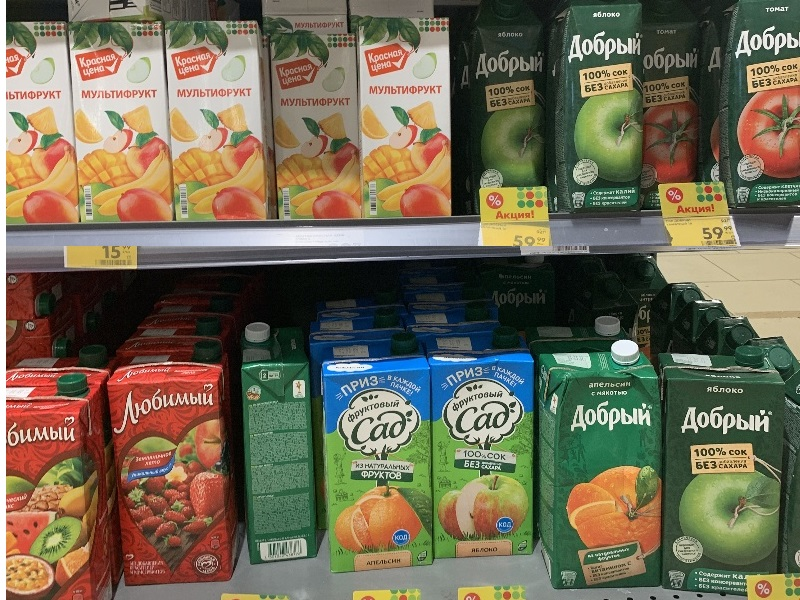juice: (99, 339, 252, 597), (536, 342, 675, 597), (654, 345, 791, 598), (311, 329, 443, 578), (422, 326, 548, 568), (1, 359, 121, 596), (59, 11, 184, 229), (163, 16, 284, 223), (349, 9, 462, 227), (544, 1, 649, 211)
